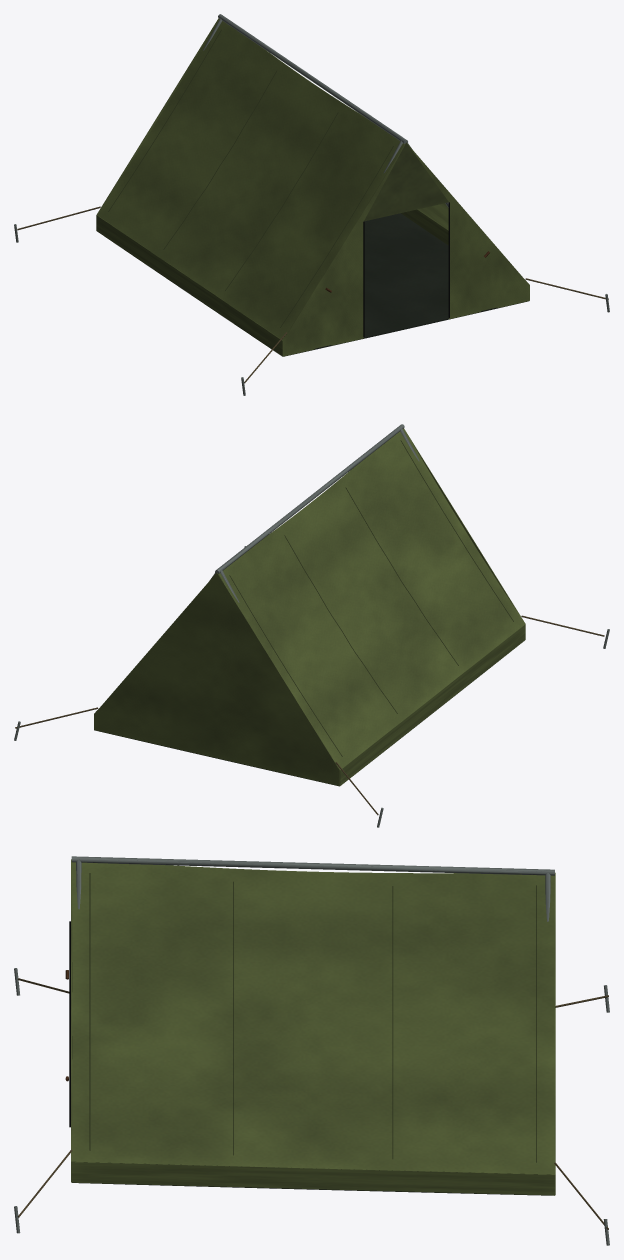
File: level_camp_tent_fitted_west_ridge.glb
The picture shows the model from 3 angles, top to bottom: view 1: azimuth 30°, elevation 25°; view 2: azimuth 150°, elevation 25°; view 3: azimuth 270°, elevation 25°; orthographic projection. The views are drawn at different scales.
Parts seen in each view (by area): view 1: level_camp_tent_fitted_west_ridge; view 2: level_camp_tent_fitted_west_ridge; view 3: level_camp_tent_fitted_west_ridge.
Part boxes in pixels (x1,y1,x2,y2): level_camp_tent_fitted_west_ridge: (14,14,609,395); level_camp_tent_fitted_west_ridge: (14,424,609,827); level_camp_tent_fitted_west_ridge: (14,856,609,1245).
Size of the model in its own units: 3.9 by 2.12 by 4.19.
Materials: 8 (8 with a texture image).
